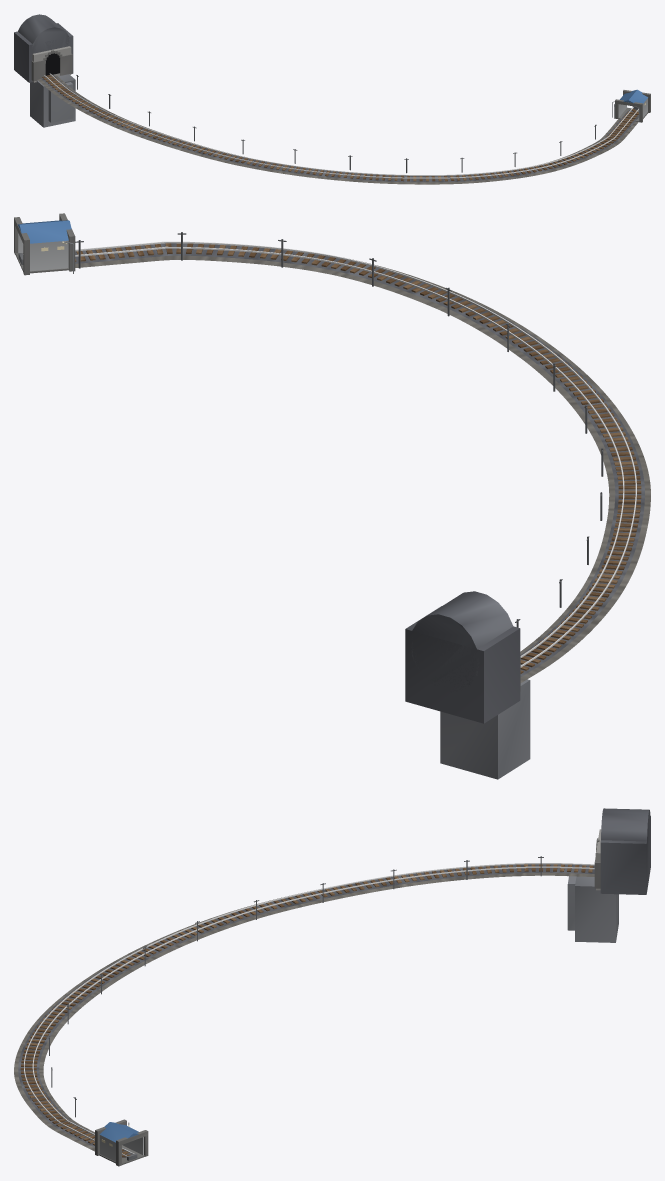
File: Rail_P2.fbx
The picture shows the model from 3 angles, top to bottom: view 1: azimuth 30°, elevation 25°; view 2: azimuth 150°, elevation 25°; view 3: azimuth 270°, elevation 25°; orthographic projection. The views are drawn at different scales.
Visible parts, largest first — view 1: Rail.Portal, Rail.Bed, Rail.Sleepers, Rail.Ballast, Rail.Rail, Rail.Rail.001, Rail.Shed, Rail.Masts; view 2: Rail.Portal, Rail.Sleepers, Rail.Bed, Rail.Ballast, Rail.Shed, Rail.Rail, Rail.Rail.001, Rail.Masts; view 3: Rail.Portal, Rail.Sleepers, Rail.Bed, Rail.Ballast, Rail.Shed, Rail.Rail, Rail.Rail.001.
Boxes of the visible parts, box(x1,y1,x2,y2) form: Rail.Portal: box(14, 14, 75, 127); Rail.Bed: box(40, 75, 638, 182); Rail.Sleepers: box(42, 75, 638, 181); Rail.Ballast: box(38, 75, 638, 184); Rail.Rail: box(44, 75, 638, 178); Rail.Rail.001: box(49, 73, 633, 175); Rail.Shed: box(615, 89, 650, 122); Rail.Masts: box(76, 75, 615, 173); Rail.Portal: box(405, 591, 530, 779); Rail.Sleepers: box(75, 243, 641, 673); Rail.Bed: box(75, 243, 644, 676); Rail.Ballast: box(75, 255, 650, 682); Rail.Shed: box(14, 213, 75, 275); Rail.Rail: box(23, 241, 636, 667); Rail.Rail.001: box(75, 246, 624, 657); Rail.Masts: box(75, 232, 603, 627); Rail.Portal: box(567, 808, 650, 942); Rail.Sleepers: box(20, 864, 593, 1157); Rail.Bed: box(18, 864, 594, 1157); Rail.Ballast: box(14, 872, 594, 1151); Rail.Shed: box(95, 1119, 148, 1166); Rail.Rail: box(24, 863, 594, 1156); Rail.Rail.001: box(32, 866, 594, 1154).
Bounding box in the file's own units: 27009 × 5193 × 24817.
